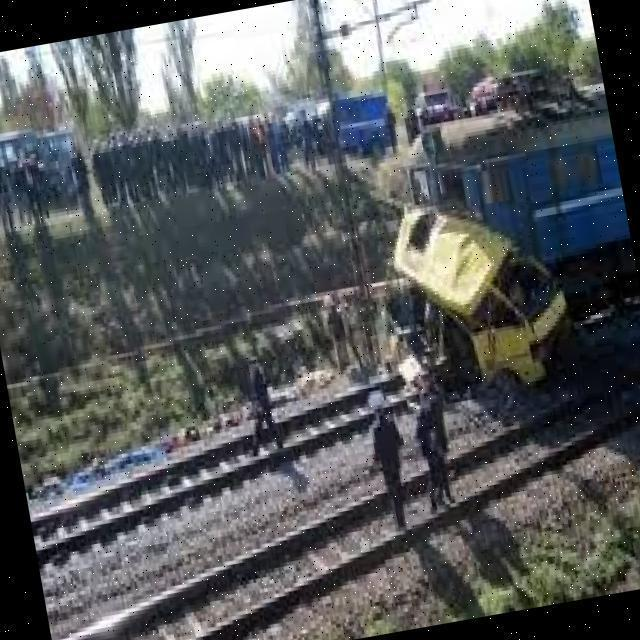accident: (360, 116, 632, 418)
